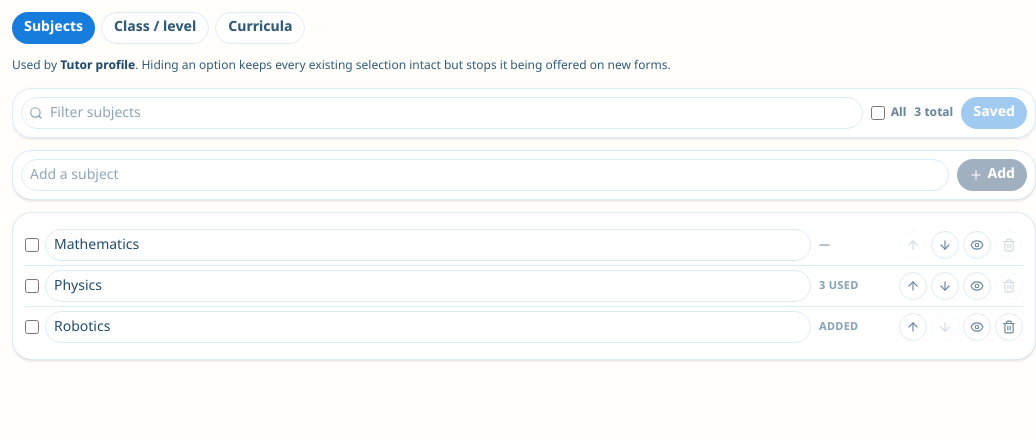
Test: option catalog manager › only offers to delete the selected rows that are actually deletable
Click the checkbox named "Select Mathematics" at (32, 245), box [25, 238, 39, 252]
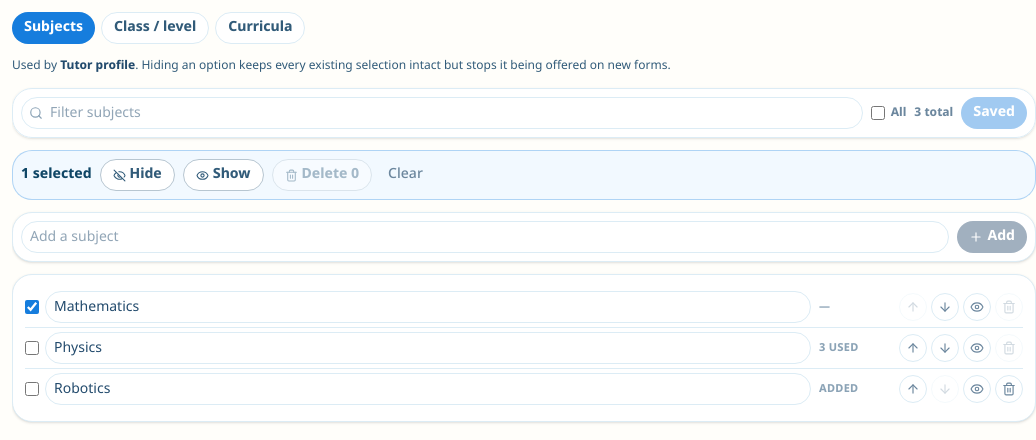
Click the checkbox named "Select Robotics" at (32, 389), box [25, 382, 39, 396]
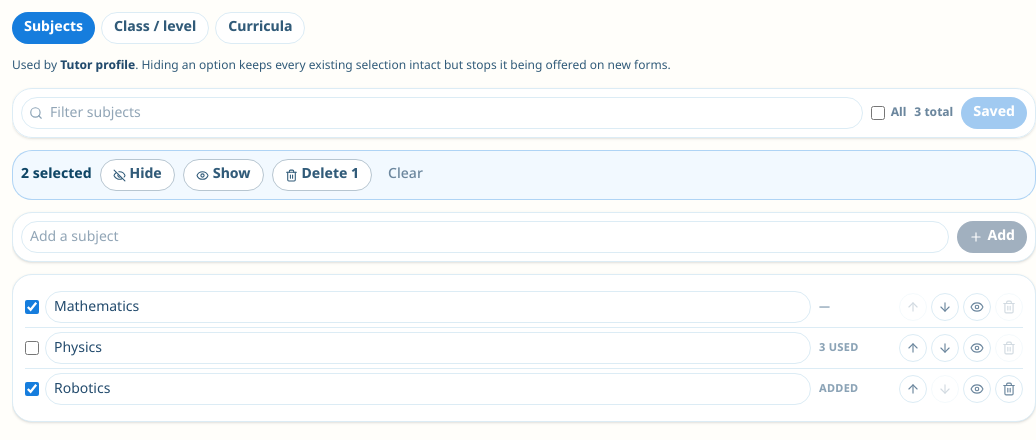
expect the text "2 selected" is shown: met, box [21, 165, 92, 185]
expect the button "Delete 1" is enabled: met, box [272, 159, 372, 191]
